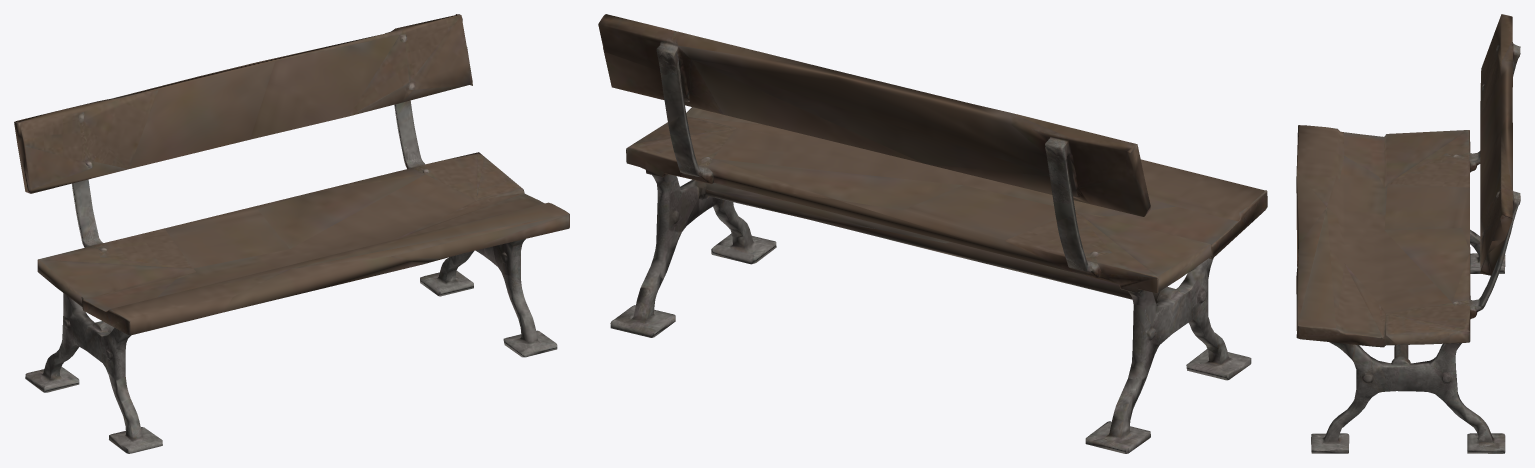
File: cell_bench.glb
3 views of the same model, side by side, from view 1: azimuth 30°, elevation 25°; view 2: azimuth 150°, elevation 25°; view 3: azimuth 270°, elevation 25° (orthographic). The views are drawn at different scales.
Size of the model in its own units: 1.9 by 1.06 by 0.8919.
1 material, 1 textured.
